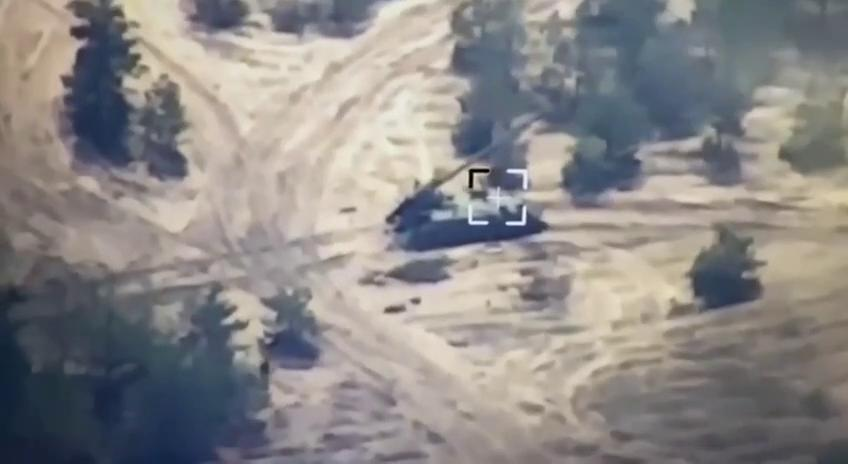tank: (387, 114, 551, 255)
